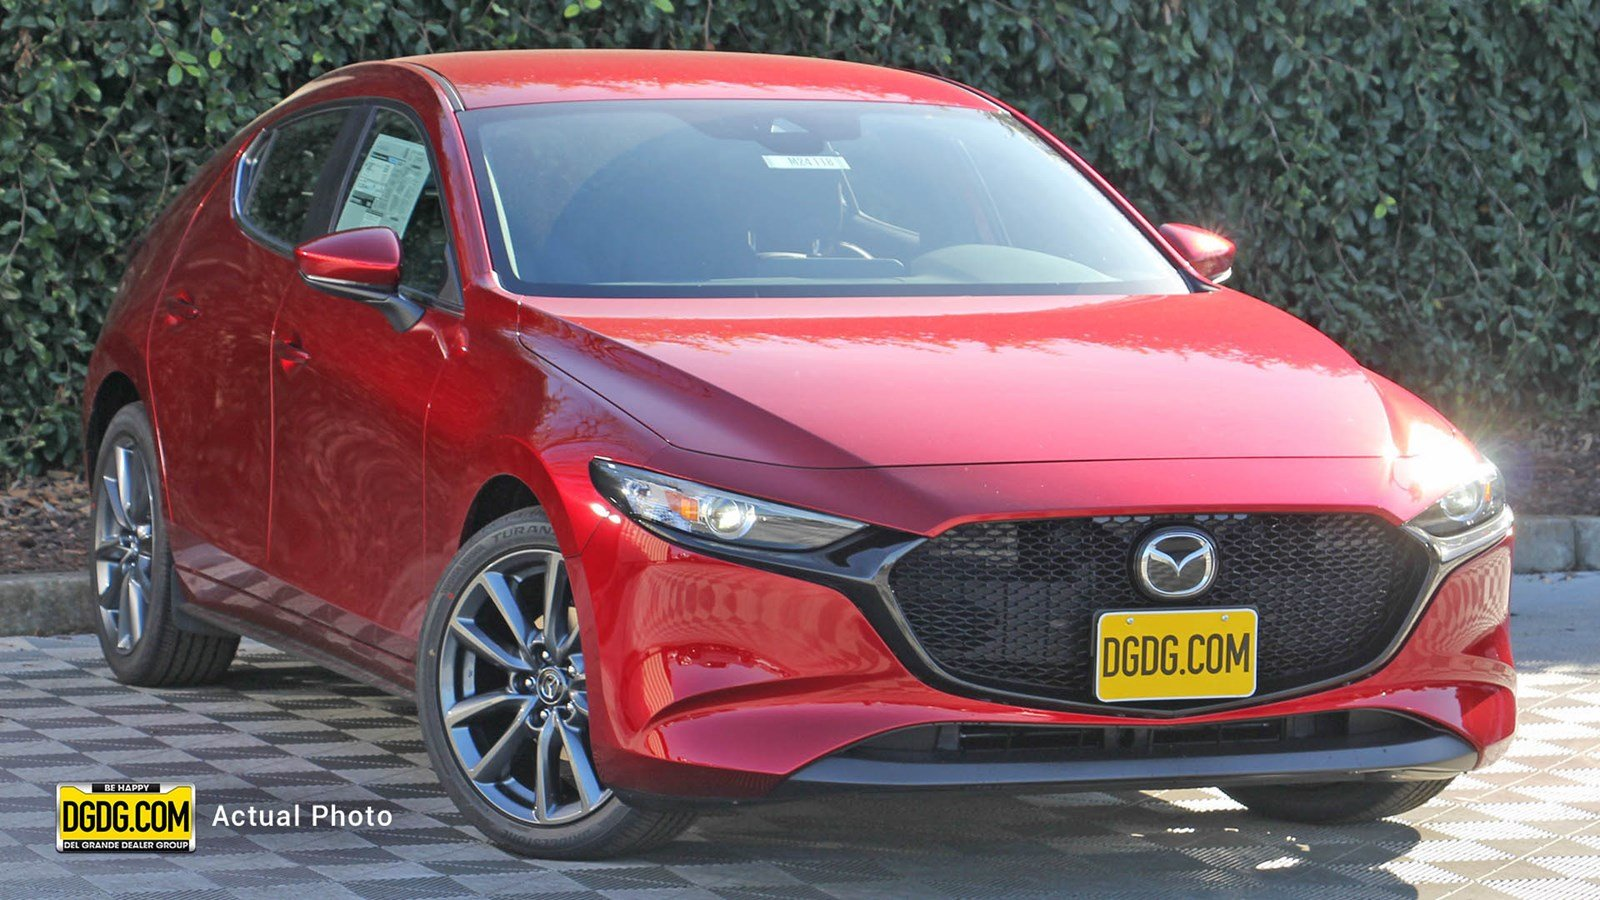Mazda3 Hatchback: (80, 46, 1521, 858)
